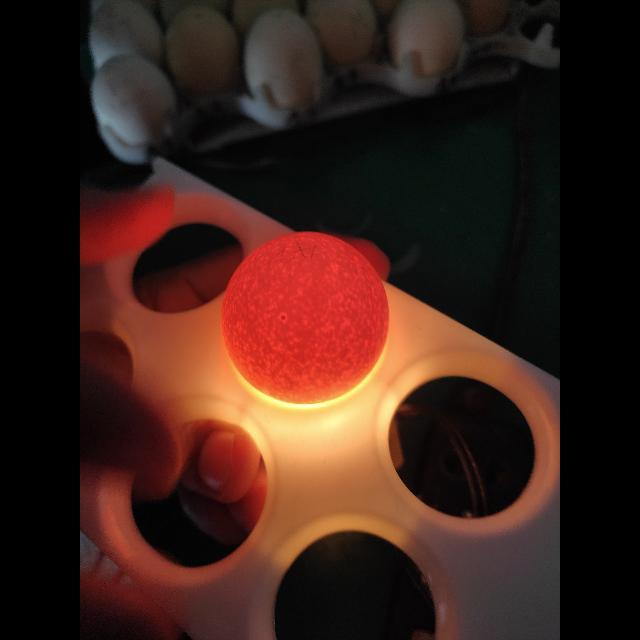Infertile: (206, 230, 394, 408)
